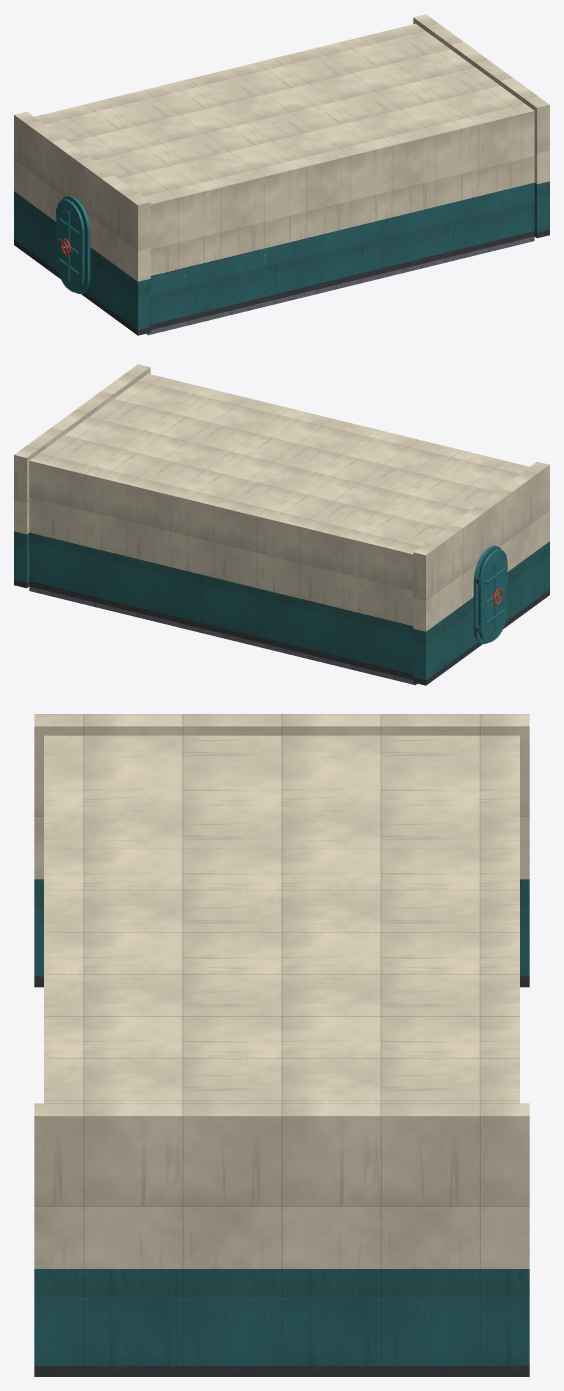
File: BatteryRoom.glb
The picture shows the model from 3 angles, top to bottom: view 1: azimuth 30°, elevation 25°; view 2: azimuth 150°, elevation 25°; view 3: azimuth 270°, elevation 25°; orthographic projection. The views are drawn at different scales.
Visible parts, largest first — view 1: BatteryRoom_Shell_Body, Bulkhead_1_Lower_Body, Bulkhead_2_Lower_Body, WatertightDoor_Leaf.005, BatteryRoom_Shell_Floor, WatertightDoor_Body.005; view 2: BatteryRoom_Shell_Body, Bulkhead_1_Lower_Body, Bulkhead_2_Lower_Body, WatertightDoor_Leaf.005, BatteryRoom_Shell_Floor, WatertightDoor_Body.005; view 3: BatteryRoom_Shell_Body, Bulkhead_2_Lower_Body, Bulkhead_1_Lower_Body.
Boxes of the visible parts, <box> form: BatteryRoom_Shell_Body: <box>34,23,534,329</box>; Bulkhead_1_Lower_Body: <box>14,111,150,335</box>; Bulkhead_2_Lower_Body: <box>413,14,549,238</box>; WatertightDoor_Leaf.005: <box>56,199,85,292</box>; BatteryRoom_Shell_Floor: <box>146,236,534,335</box>; WatertightDoor_Body.005: <box>56,195,90,293</box>; BatteryRoom_Shell_Body: <box>29,373,529,679</box>; Bulkhead_1_Lower_Body: <box>413,461,549,685</box>; Bulkhead_2_Lower_Body: <box>14,364,150,588</box>; WatertightDoor_Leaf.005: <box>478,549,507,642</box>; BatteryRoom_Shell_Floor: <box>29,586,417,685</box>; WatertightDoor_Body.005: <box>473,545,501,643</box>; BatteryRoom_Shell_Body: <box>44,735,519,1103</box>; Bulkhead_2_Lower_Body: <box>34,1103,529,1376</box>; Bulkhead_1_Lower_Body: <box>34,714,529,987</box>.
Bounding box in the file's own units: 9.88 × 3 × 5.
44 materials, 28 textured.
